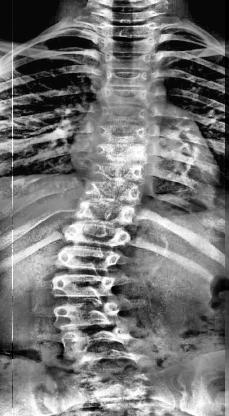Vertebrae: (58, 323, 144, 361), (52, 300, 128, 330), (64, 220, 134, 248), (56, 245, 128, 272), (49, 273, 121, 299), (70, 198, 138, 224), (80, 179, 146, 203), (88, 157, 148, 183), (92, 140, 152, 162), (96, 35, 159, 55), (98, 51, 158, 71), (98, 69, 158, 89), (95, 20, 161, 38), (97, 103, 154, 123), (98, 86, 154, 106), (96, 122, 152, 142)
